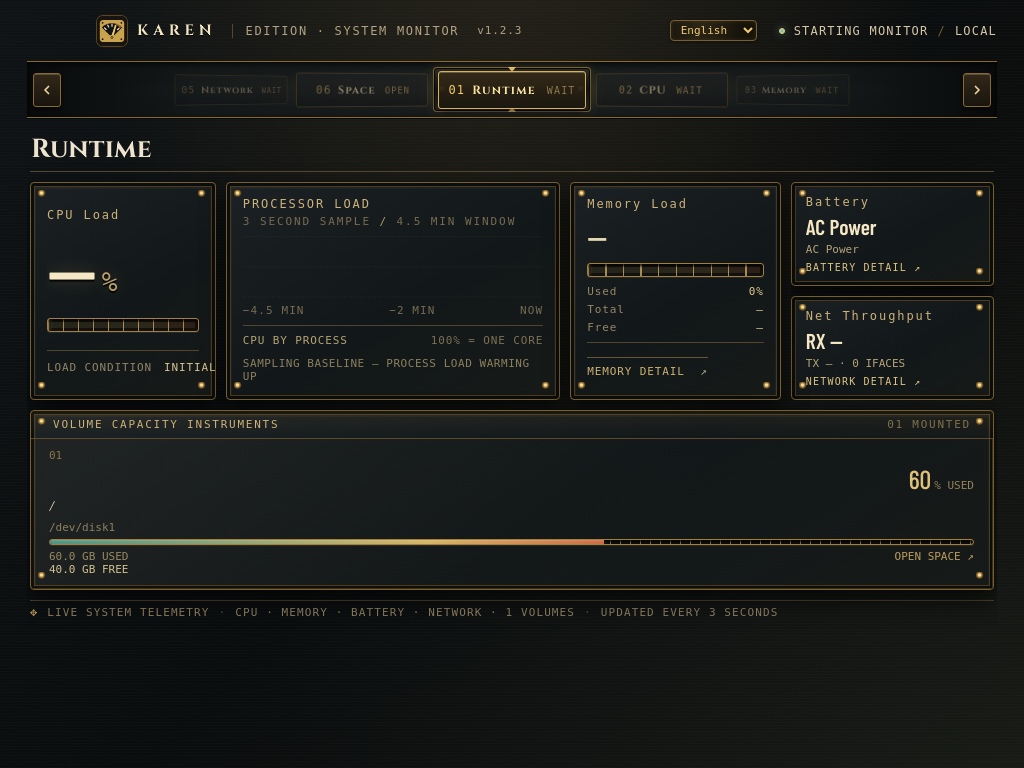
Test: Karen desktop interface › shows an explicit empty state for a scanned root with no entries
Click the button "06 Space OPEN" at x=362, y=90, box [296,72,428,107]
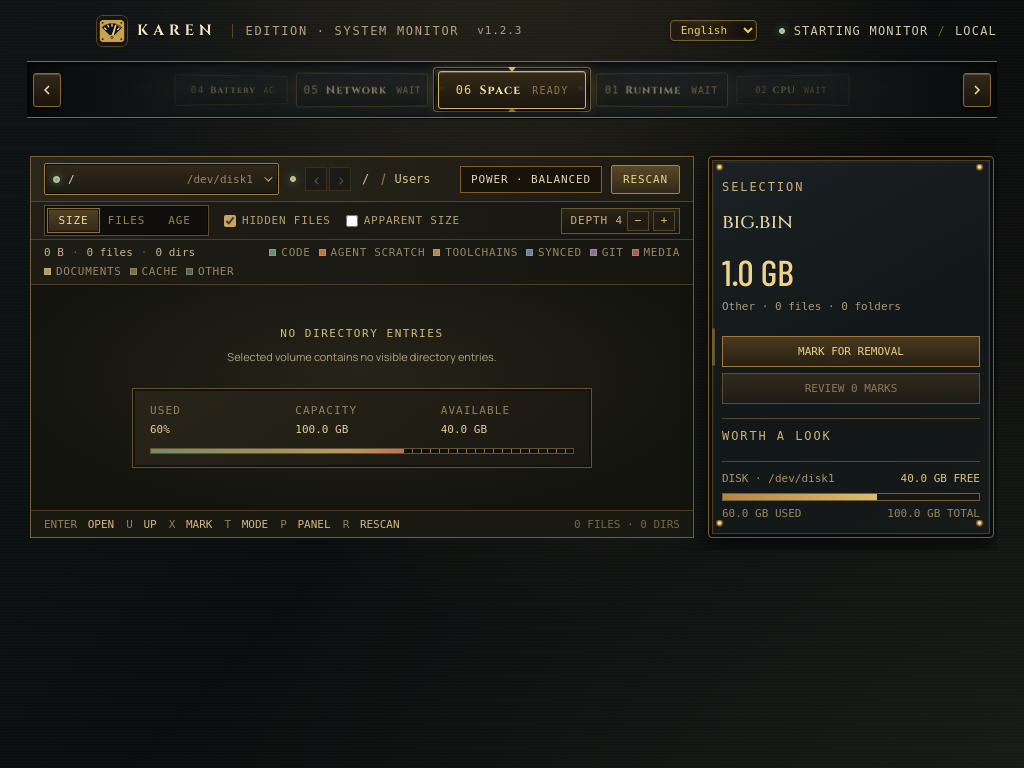
expect the text "NO DIRECTORY ENTRIES" is shown: met, box [280,327,444,340]
